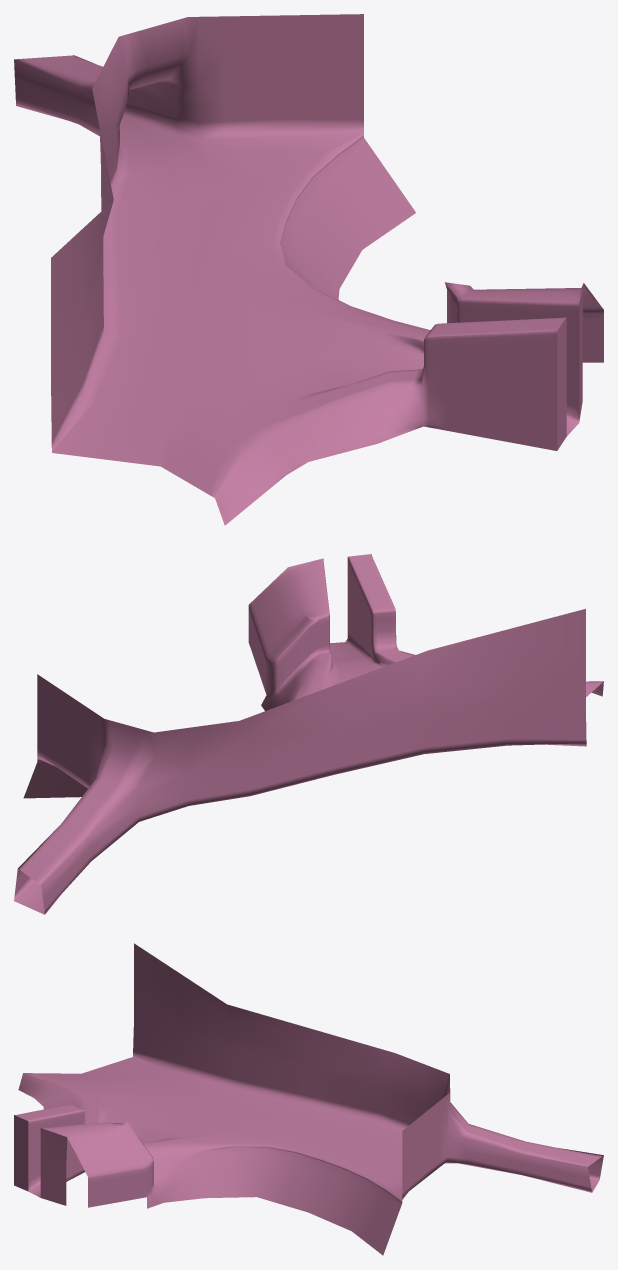
File: terrain_W3A5.fbx
The picture shows the model from 3 angles, top to bottom: view 1: azimuth 30°, elevation 25°; view 2: azimuth 150°, elevation 25°; view 3: azimuth 270°, elevation 25°; orthographic projection. The views are drawn at different scales.
Parts seen in each view (by area): view 1: W3A5_mesh; view 2: W3A5_mesh; view 3: W3A5_mesh.
Part boxes in pixels (bbox=[...]): W3A5_mesh: bbox=[14, 14, 603, 525]; W3A5_mesh: bbox=[14, 554, 603, 914]; W3A5_mesh: bbox=[14, 943, 603, 1255].
Bounding box in the file's own units: 18272 × 7607 × 27586.
